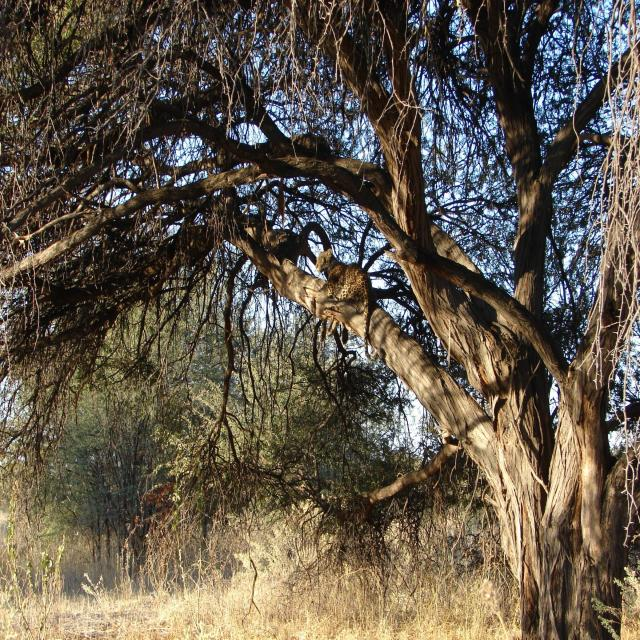Leopard: (313, 243, 381, 364)
